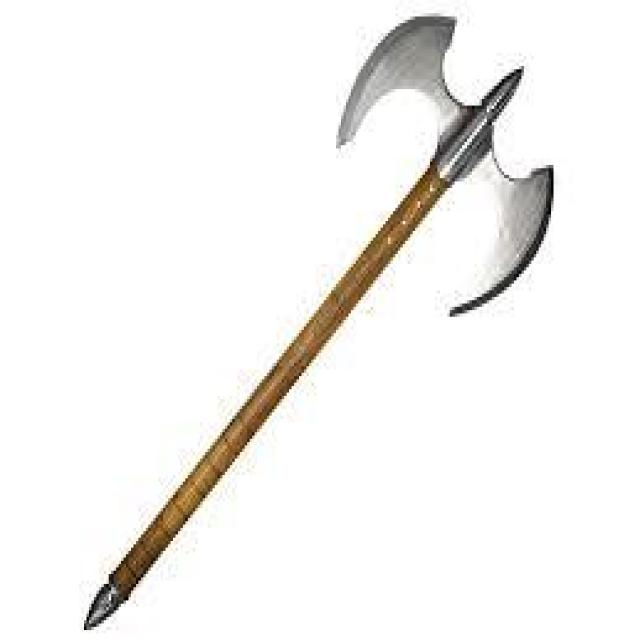Gun: (66, 8, 559, 631)
